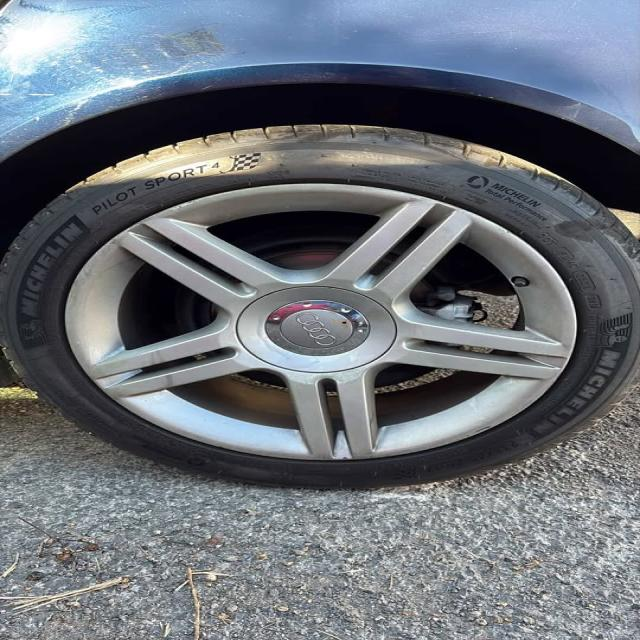jante: (65, 182, 577, 460)
roda: (0, 123, 640, 488)
